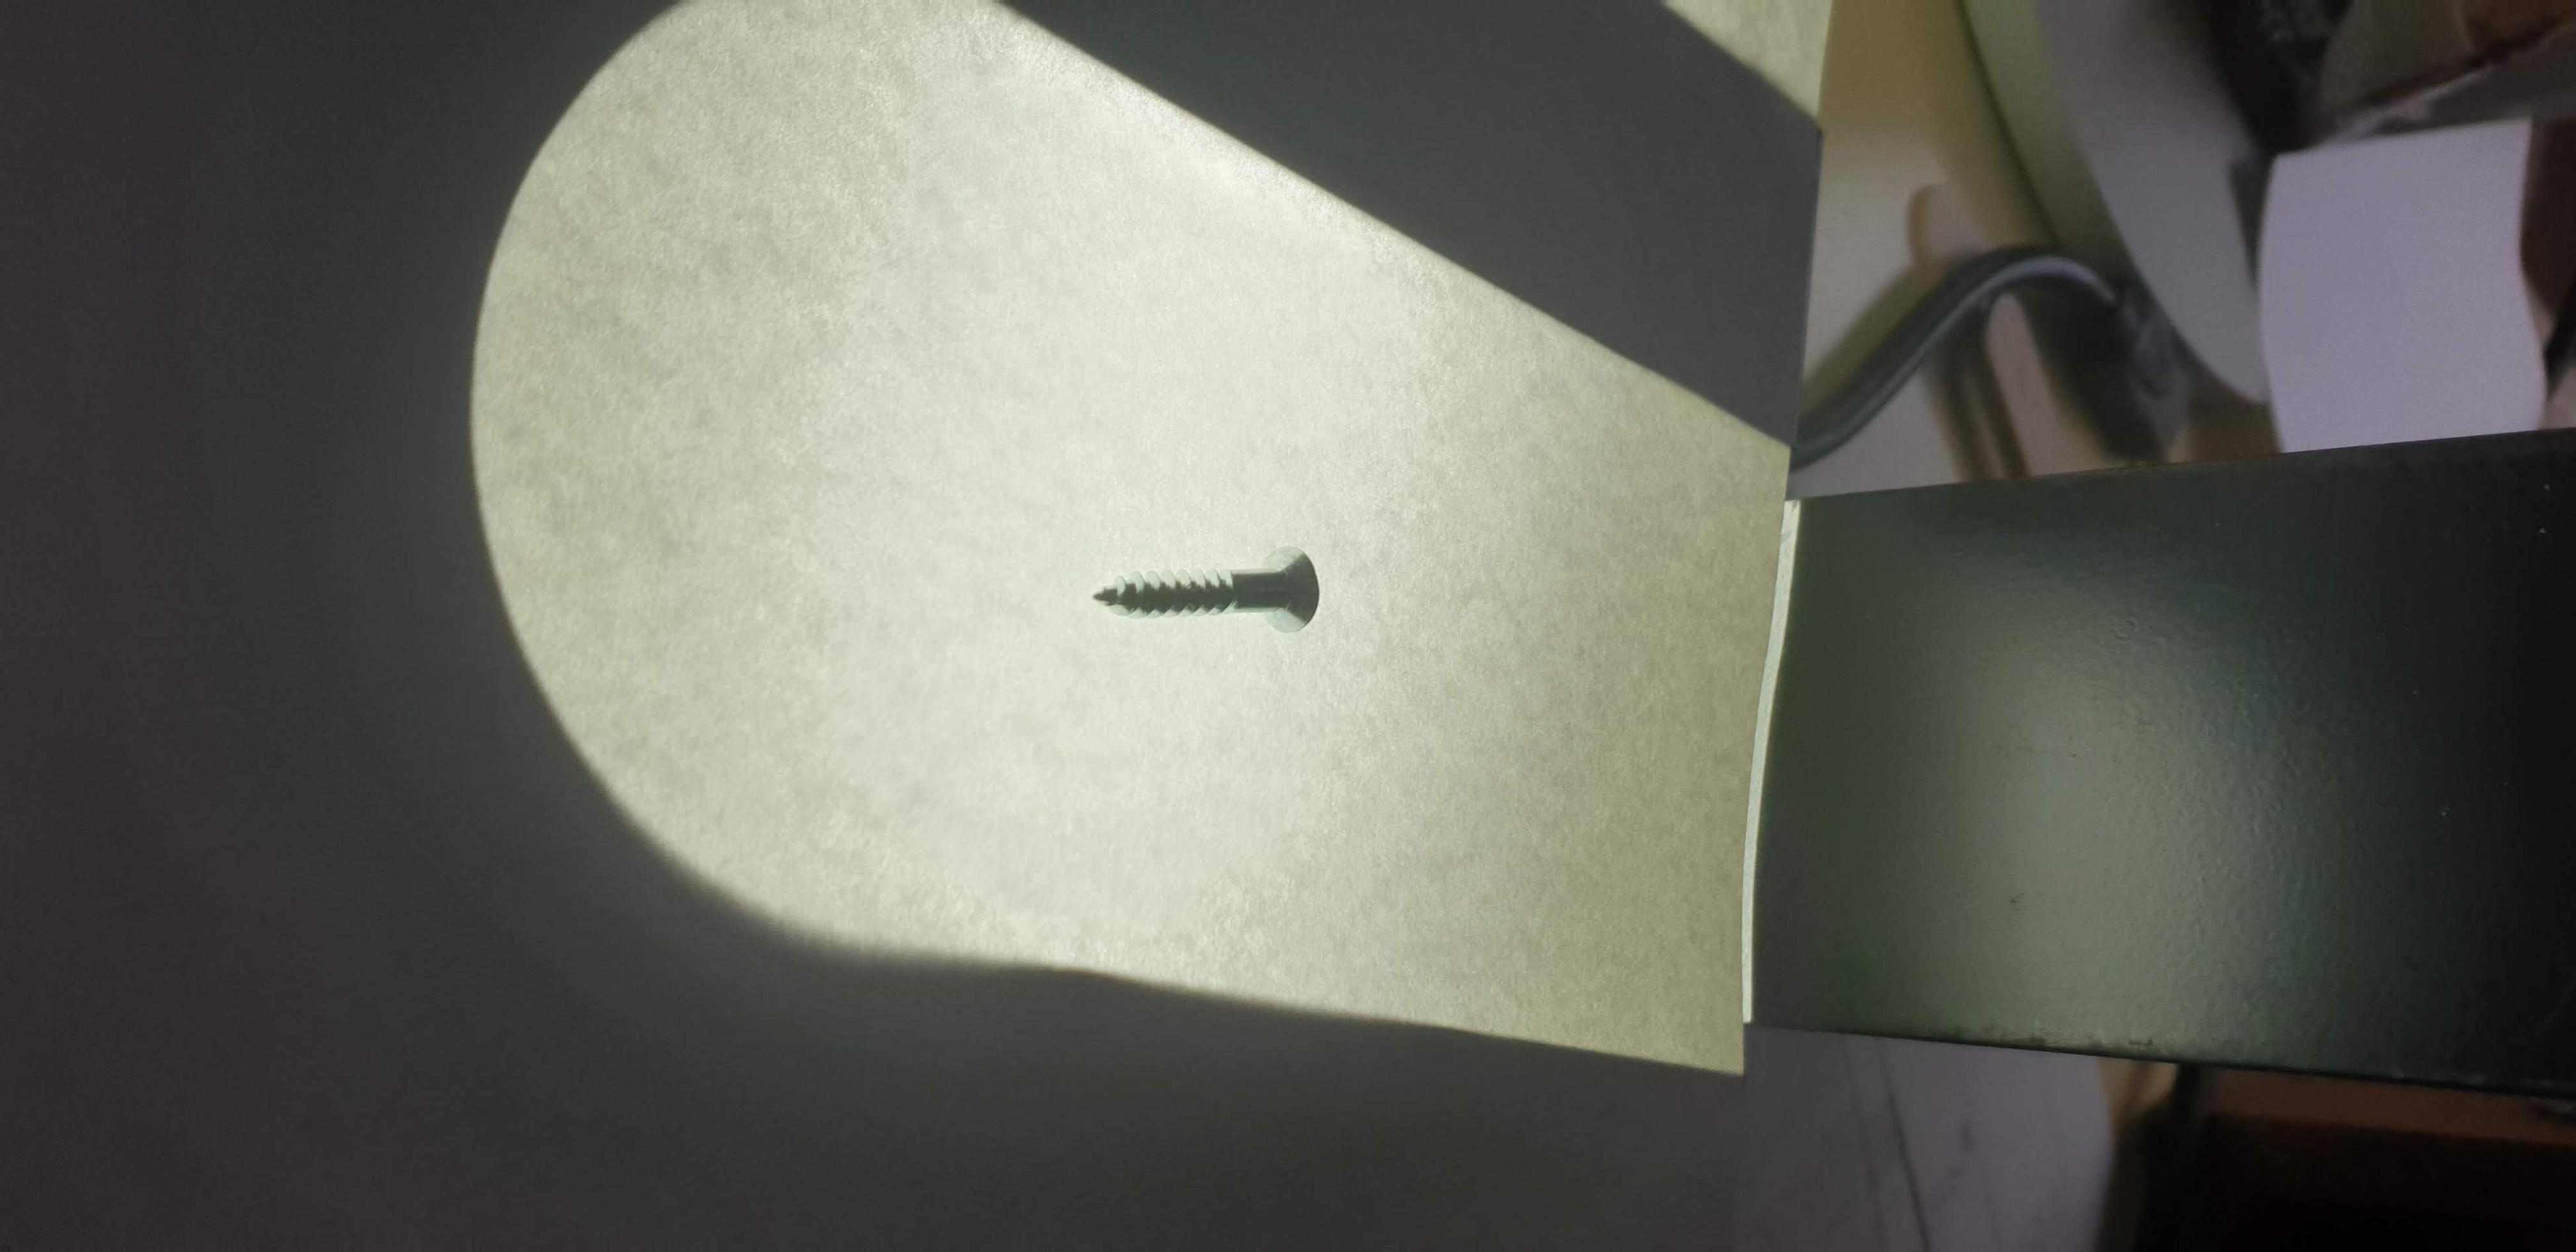S005: (1074, 526, 1377, 665)
